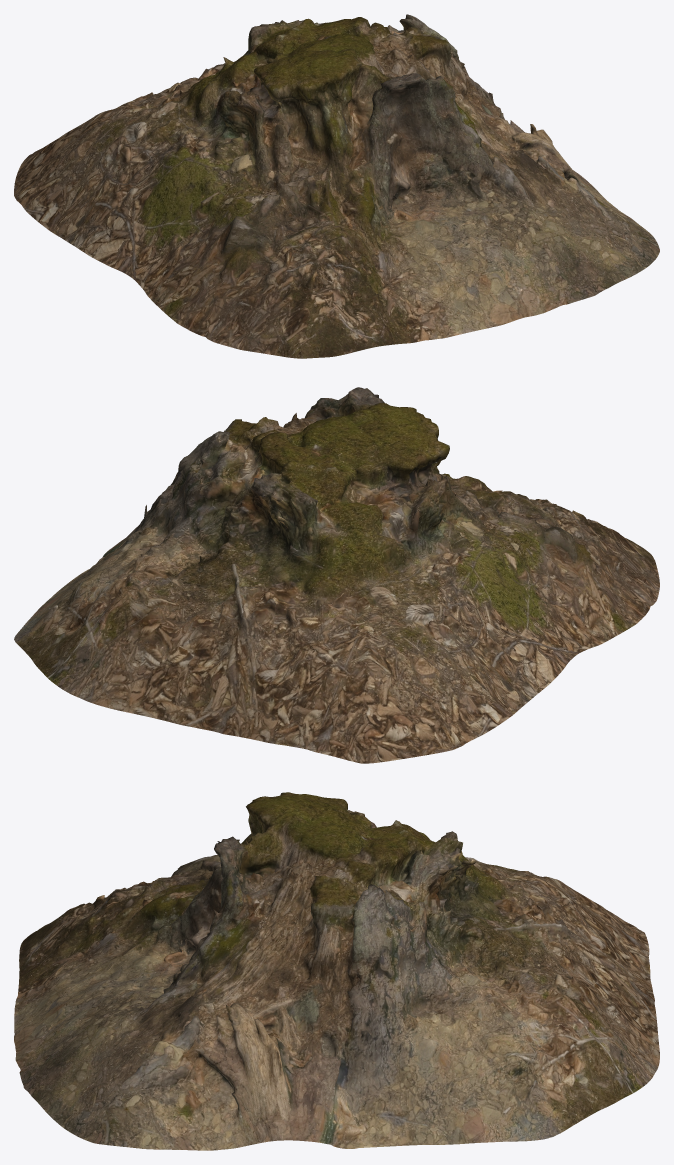
File: tree_stump_01_1k.gltf
The picture shows the model from 3 angles, top to bottom: view 1: azimuth 30°, elevation 25°; view 2: azimuth 150°, elevation 25°; view 3: azimuth 270°, elevation 25°; orthographic projection. The views are drawn at different scales.
Visible parts, largest first — view 1: tree_stump_01; view 2: tree_stump_01; view 3: tree_stump_01.
Part boxes in pixels (x1,y1,x2,y2): tree_stump_01: (14,14,659,358); tree_stump_01: (14,387,659,763); tree_stump_01: (14,792,659,1150).
Bounding box in the file's own units: 1.43 × 0.5728 × 1.59.
Materials: 1 (1 with a texture image).
